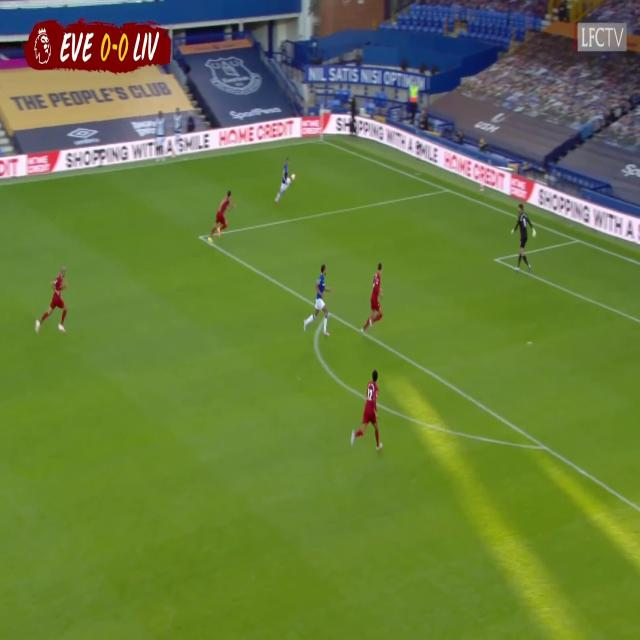ball: (289, 170, 296, 188)
team1: (349, 363, 392, 466), (37, 260, 72, 336), (366, 258, 384, 344), (210, 185, 233, 242)
team2: (306, 264, 331, 342), (278, 155, 290, 205)
